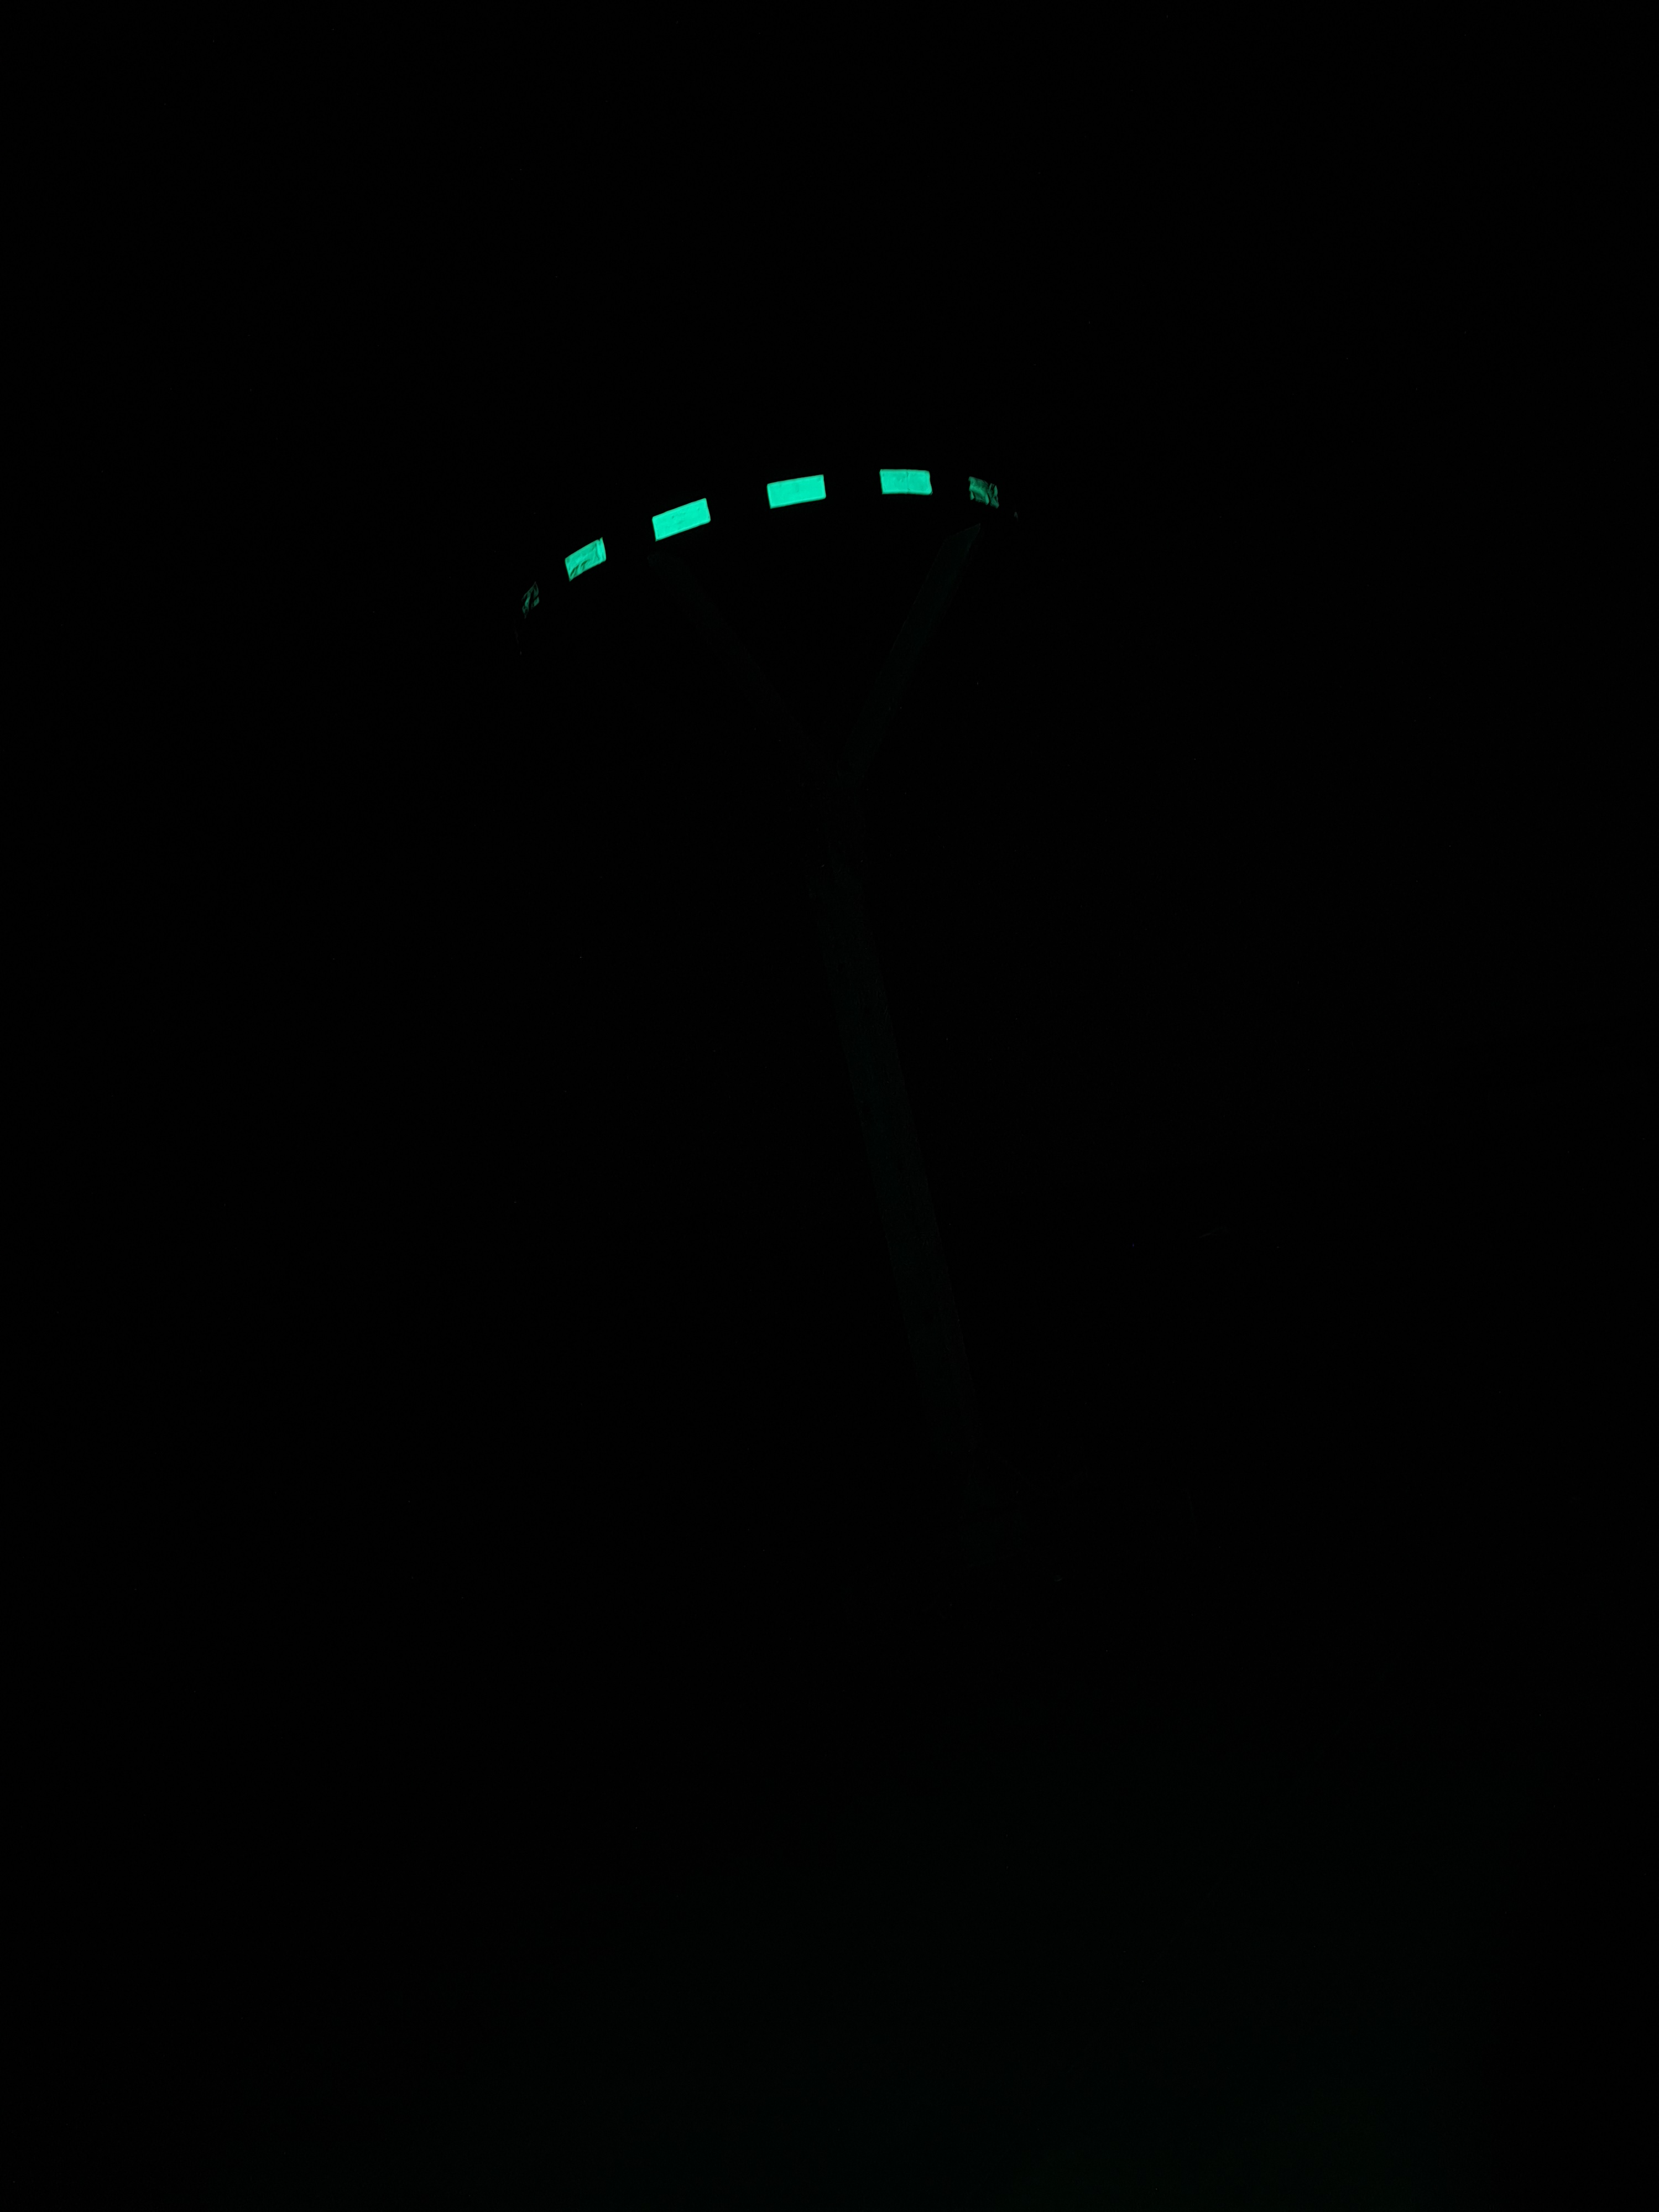hoop: (505, 462, 1006, 617)
